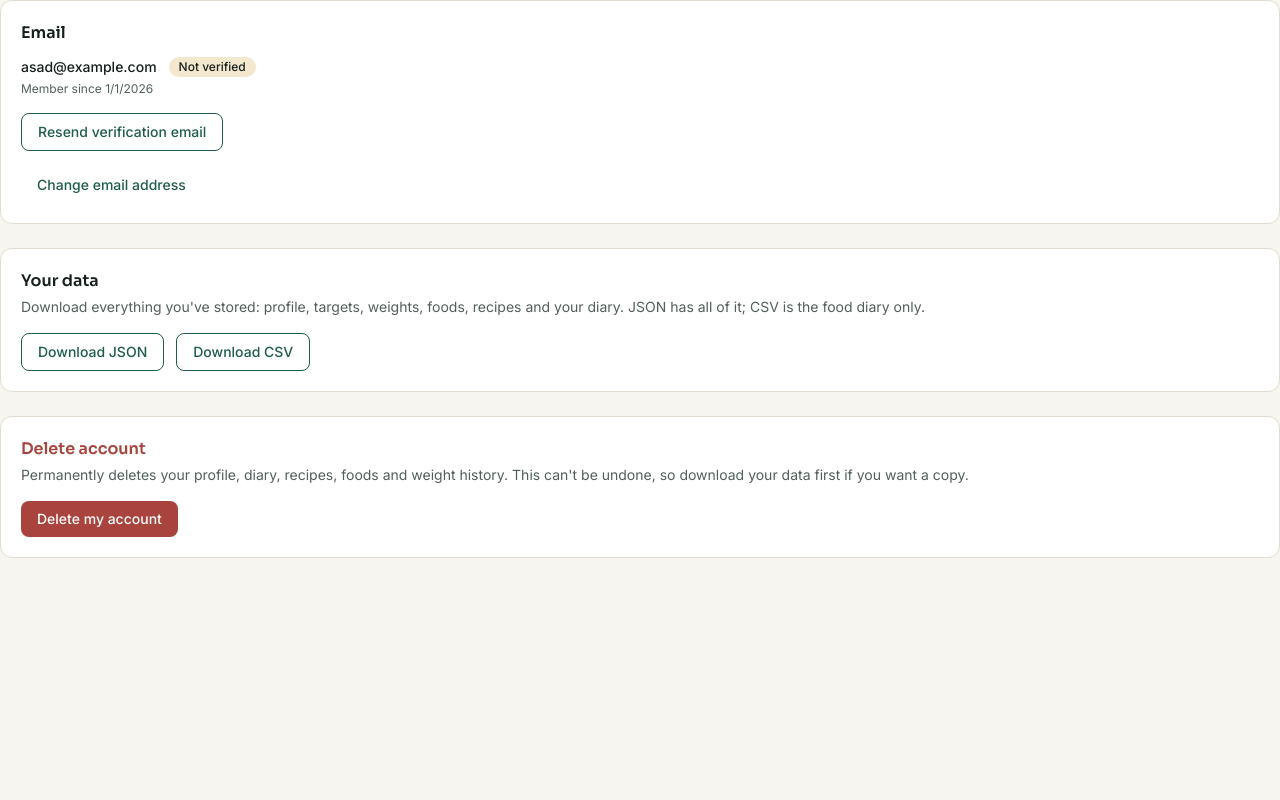
Scenario: account › asks for the password before deleting, and the box has an eye toggle
Expected: the text "Not verified" is shown, 179,59 -> 246,74
Click the button "Delete my account" at (99, 519), box 21,501 -> 178,537
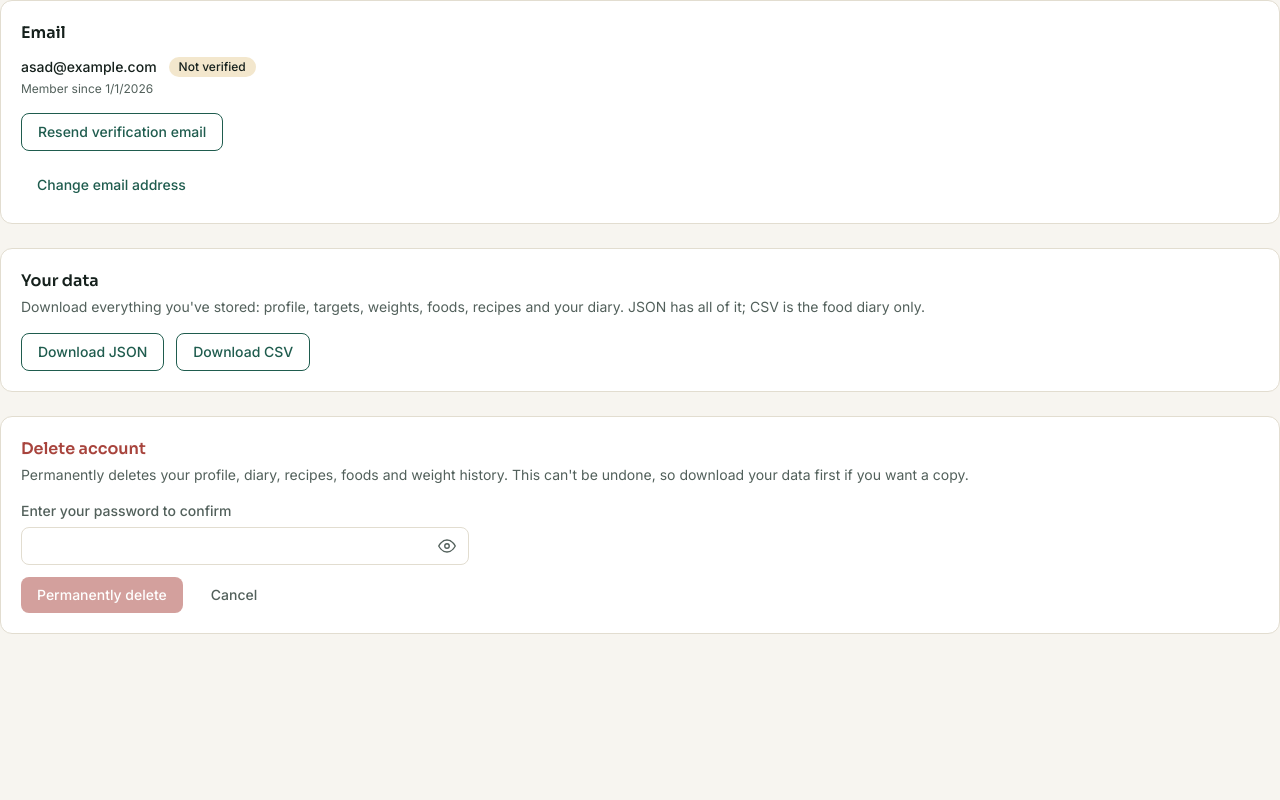
Now the button named "Show password" is shown, box 425,527 -> 469,565
Now the button "Permanently delete" is disabled, box 21,577 -> 183,613
